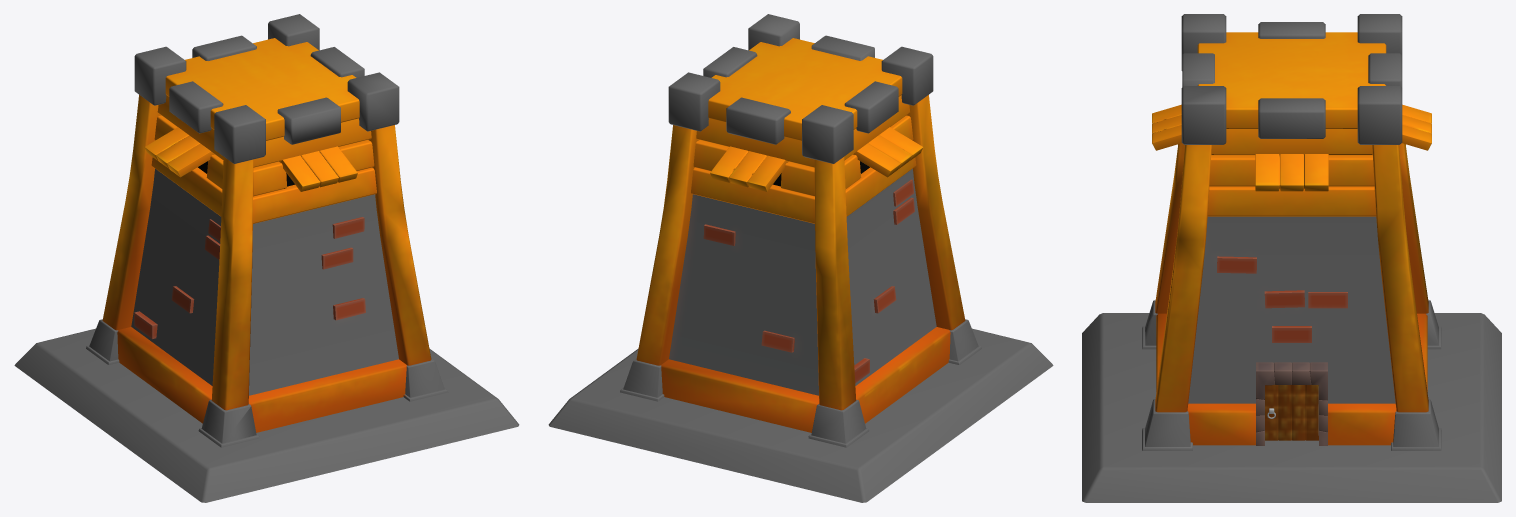
File: Balista_Tartak_Kamieniolom.fbx
3 renders of one model, left to right at view 1: azimuth 30°, elevation 25°; view 2: azimuth 150°, elevation 25°; view 3: azimuth 270°, elevation 25°, orthographic. The views are drawn at different scales.
Visible parts, largest first — view 1: BalistaLV1.001_Baked; view 2: BalistaLV1.001_Baked; view 3: BalistaLV1.001_Baked.
Part boxes in pixels (box(x1,y1,x2,y2)): BalistaLV1.001_Baked: box(14, 14, 519, 502); BalistaLV1.001_Baked: box(548, 14, 1053, 502); BalistaLV1.001_Baked: box(1082, 14, 1501, 502).
Bounding box in the file's own units: 173 × 169 × 179.
Materials: 1 (1 with a texture image).
